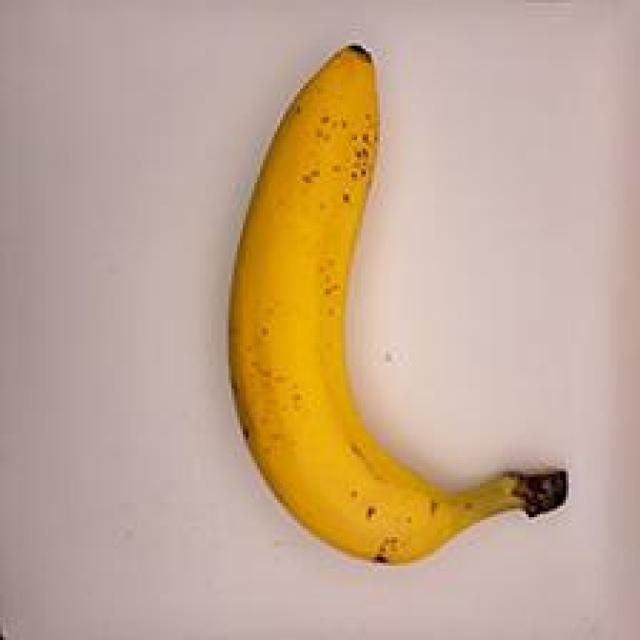Ripe: (208, 15, 583, 593)
